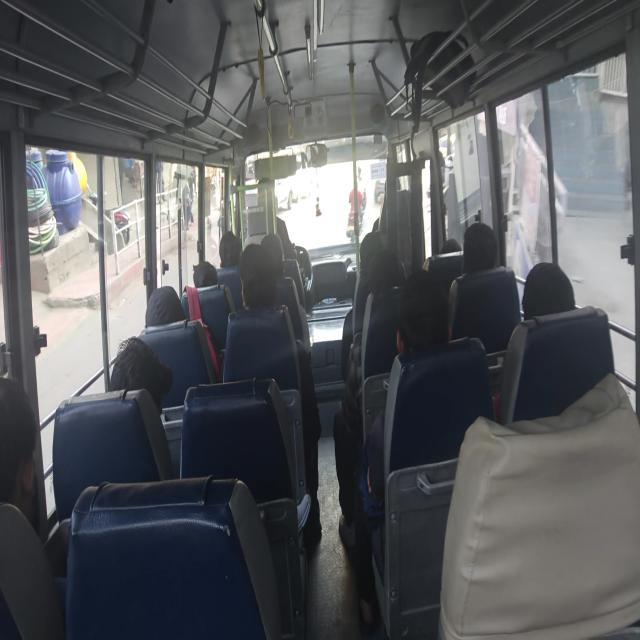person: (354, 268, 450, 631), (223, 241, 322, 548), (0, 374, 69, 638), (448, 221, 520, 354), (0, 376, 38, 524), (109, 335, 173, 411), (521, 260, 576, 320), (145, 284, 186, 326), (348, 178, 365, 237), (218, 231, 242, 268), (192, 260, 218, 288)
